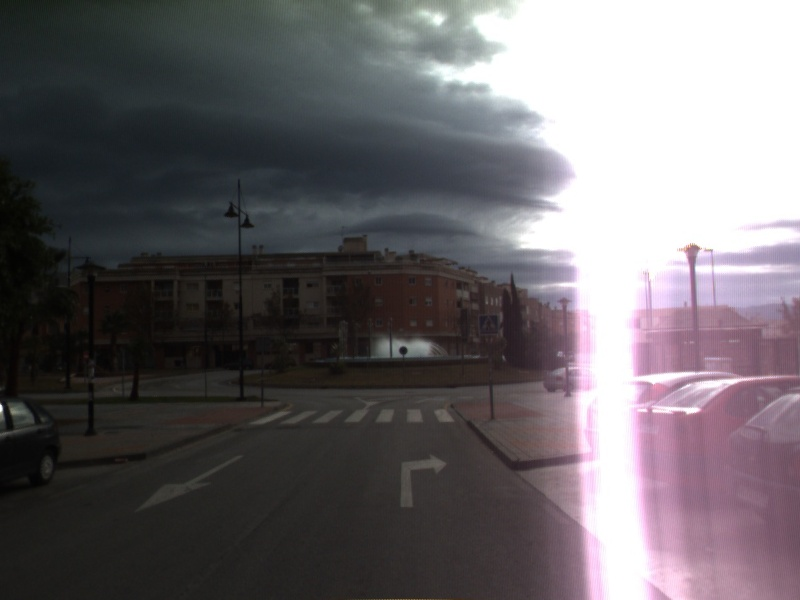RIGHT: (398, 452, 449, 509)
